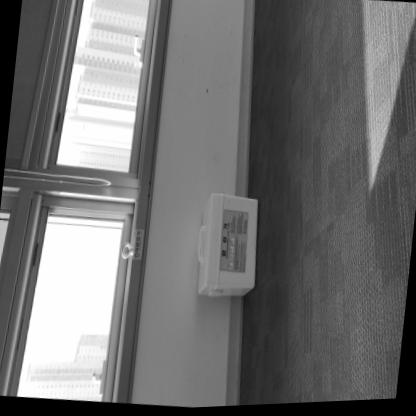DDL: (193, 194, 263, 303)
